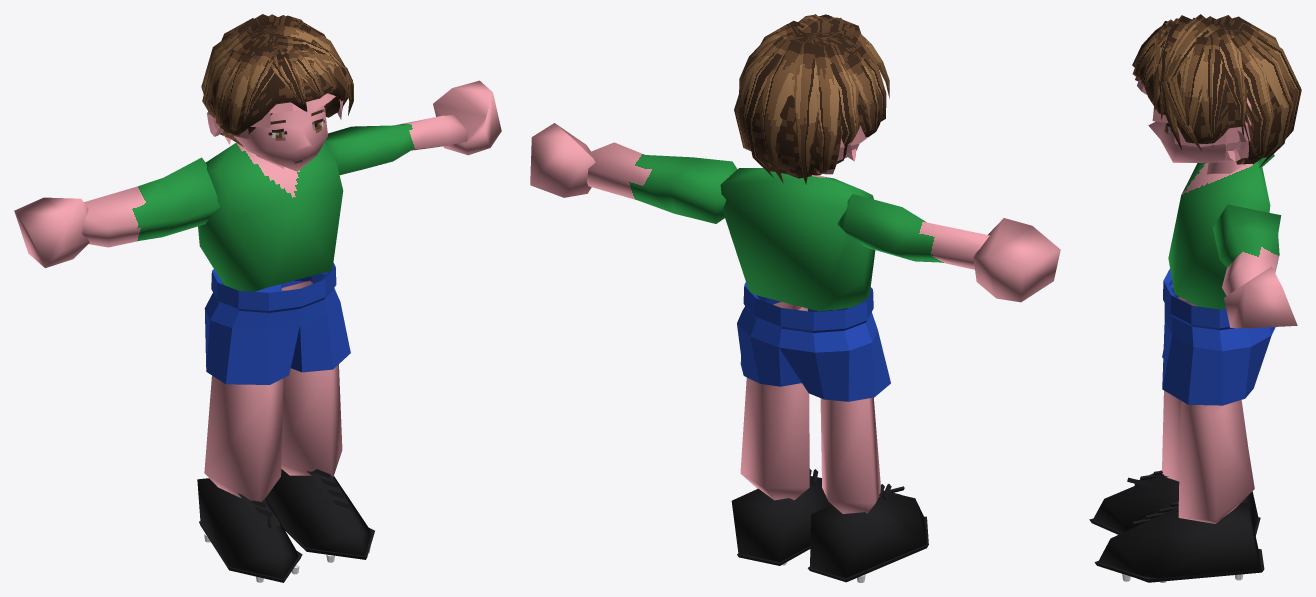
The model's file is 01-liso-repartido_castanho.glb.
3 views of the same model, side by side, from view 1: azimuth 30°, elevation 25°; view 2: azimuth 150°, elevation 25°; view 3: azimuth 270°, elevation 25° (orthographic). The views are drawn at different scales.
Parts seen in each view (by area): view 1: Camisa_Tronco, Bermuda, Cabelo, Perna.R, Braco.R, Perna.L, Chuteira.R, Chuteira.L, Braco.L, Mao.R, Cabeca, Mao.L (+2 smaller); view 2: Cabelo, Camisa_Tronco, Bermuda, Perna.L, Braco.L, Chuteira.R, Perna.R, Braco.R, Mao.R, Chuteira.L, Mao.L, Chuteira_Sola.R; view 3: Cabelo, Bermuda, Chuteira.L, Camisa_Tronco, Perna.L, Braco.L, Mao.L, Chuteira.R, Perna.R, Cabeca, Couro_Cabeludo, Chuteira_Sola.L (+3 smaller).
Boxes of the visible parts, left/top/right/bottom form: Camisa_Tronco: left=198, top=142, right=343, bottom=291; Bermuda: left=204, top=262, right=350, bottom=384; Cabelo: left=201, top=14, right=353, bottom=146; Perna.R: left=204, top=375, right=283, bottom=505; Braco.R: left=81, top=157, right=219, bottom=247; Perna.L: left=281, top=280, right=342, bottom=477; Chuteira.R: left=197, top=478, right=300, bottom=578; Chuteira.L: left=266, top=469, right=370, bottom=556; Braco.L: left=324, top=115, right=468, bottom=174; Mao.R: left=14, top=197, right=89, bottom=268; Cabeca: left=233, top=104, right=327, bottom=171; Mao.L: left=433, top=80, right=501, bottom=155; Cabelo: left=734, top=14, right=889, bottom=184; Camisa_Tronco: left=720, top=168, right=875, bottom=311; Bermuda: left=737, top=282, right=890, bottom=401; Perna.L: left=740, top=301, right=809, bottom=500; Braco.L: left=586, top=142, right=737, bottom=223; Chuteira.R: left=810, top=491, right=926, bottom=578; Perna.R: left=820, top=397, right=880, bottom=513; Braco.R: left=837, top=194, right=989, bottom=269; Mao.R: left=973, top=218, right=1060, bottom=302; Chuteira.L: left=731, top=476, right=831, bottom=562; Mao.L: left=530, top=123, right=595, bottom=197; Chuteira_Sola.R: left=808, top=516, right=928, bottom=582; Cabelo: left=1132, top=14, right=1301, bottom=167; Bermuda: left=1162, top=269, right=1275, bottom=405; Chuteira.L: left=1098, top=502, right=1261, bottom=582; Camisa_Tronco: left=1168, top=159, right=1270, bottom=309; Perna.L: left=1178, top=400, right=1254, bottom=523; Braco.L: left=1213, top=204, right=1281, bottom=295; Mao.L: left=1224, top=266, right=1297, bottom=328; Chuteira.R: left=1093, top=474, right=1258, bottom=532; Perna.R: left=1162, top=296, right=1247, bottom=481; Cabeca: left=1148, top=121, right=1234, bottom=162; Couro_Cabeludo: left=1137, top=79, right=1263, bottom=164; Chuteira_Sola.L: left=1094, top=549, right=1264, bottom=582.
Bounding box in the file's own units: 0.4523 × 0.4617 × 0.1648.
Materials: 3 (3 with a texture image).
